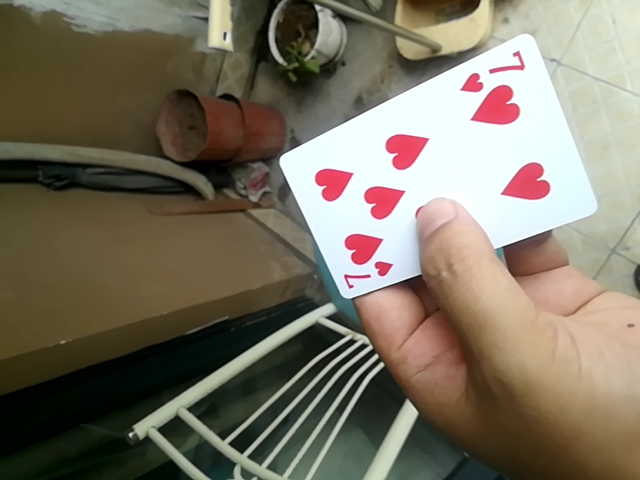hx 7: (273, 40, 600, 315)
